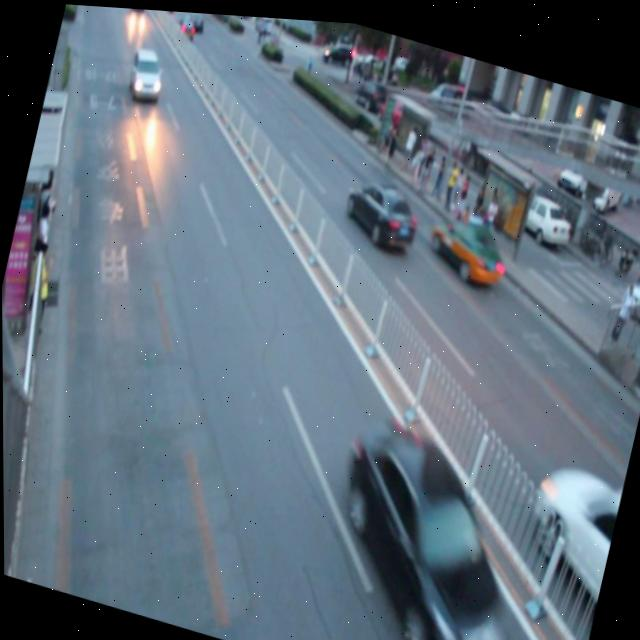car: (302, 395, 545, 640), (421, 197, 514, 286), (338, 165, 423, 250)
truck: (123, 39, 170, 106)
